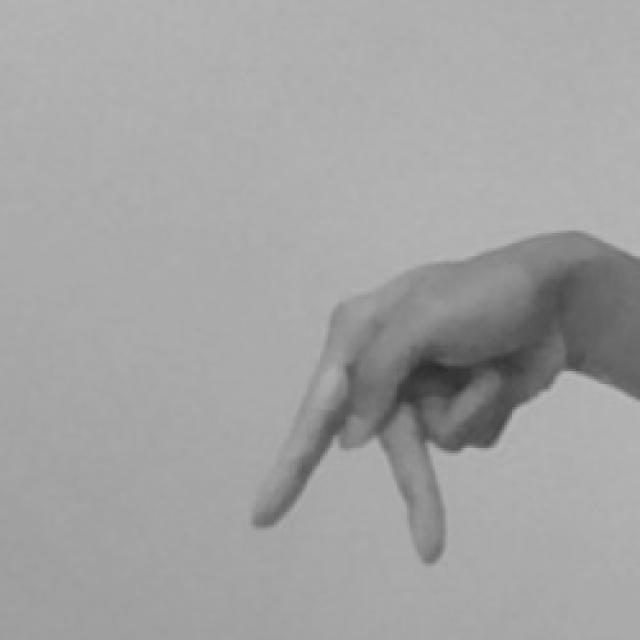P: (238, 225, 640, 569)
